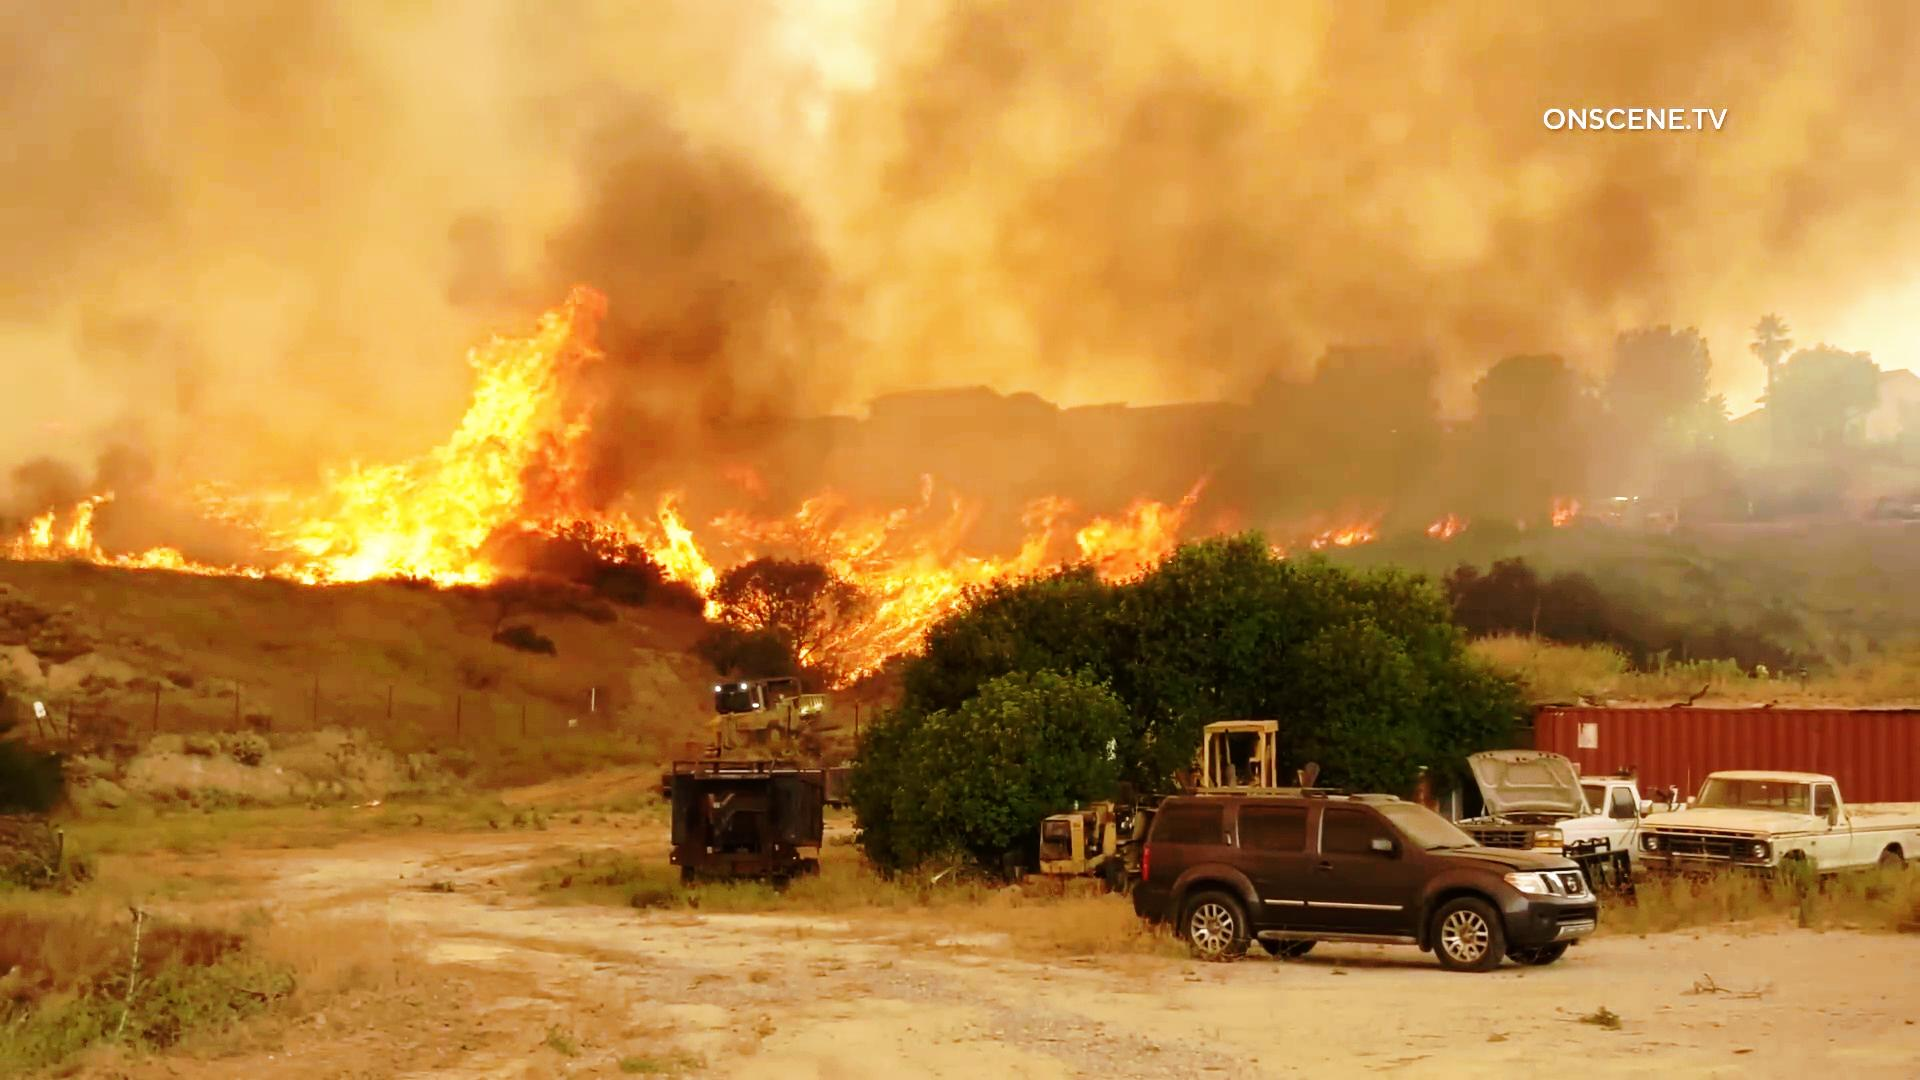fire: (265, 265, 616, 571)
